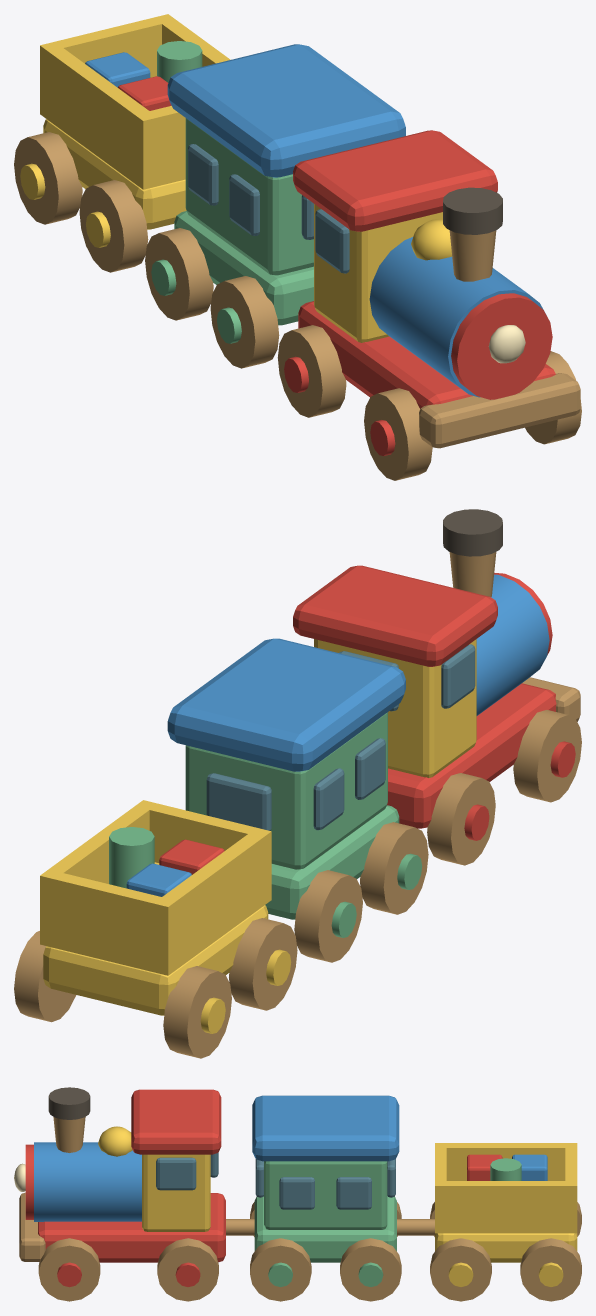
File: toy_train.glb
3 renders of one model, top to bottom at view 1: azimuth 30°, elevation 25°; view 2: azimuth 150°, elevation 25°; view 3: azimuth 270°, elevation 25°, orthographic. The views are drawn at different scales.
Parts seen in each view (by area): view 1: Passenger car blue roof, Locomotive red cab roof, Locomotive blue boiler, Passenger car green body, Open wagon long side, Locomotive red boiler face, Locomotive front buffer, Locomotive cab, Locomotive wooden chassis, Passenger car wooden chassis, Passenger car chunky wooden wheel, Open wagon chunky wooden wheel (+25 smaller); view 2: Passenger car blue roof, Locomotive red cab roof, Passenger car green body, Open wagon end wall.001, Locomotive cab, Locomotive wooden chassis, Open wagon long side, Open wagon wooden chassis, Locomotive blue boiler, Open wagon chunky wooden wheel.002, Passenger car chunky wooden wheel.002, Locomotive chunky wooden wheel.002 (+23 smaller); view 3: Passenger car blue roof, Locomotive blue boiler, Open wagon long side.001, Passenger car green body, Locomotive red cab roof, Locomotive wooden chassis, Locomotive cab, Passenger car wooden chassis, Open wagon chunky wooden wheel.001, Passenger car chunky wooden wheel.001, Passenger car chunky wooden wheel.003, Open wagon chunky wooden wheel.003 (+27 smaller).
Part boxes in pixels (bbox=[...]): Passenger car blue roof: bbox=[167, 44, 405, 177]; Locomotive red cab roof: bbox=[293, 130, 497, 231]; Locomotive blue boiler: bbox=[369, 237, 546, 397]; Passenger car green body: bbox=[185, 118, 313, 275]; Open wagon long side: bbox=[48, 48, 148, 182]; Locomotive red boiler face: bbox=[451, 293, 552, 399]; Locomotive front buffer: bbox=[419, 373, 580, 448]; Locomotive cab: bbox=[314, 204, 442, 342]; Locomotive wooden chassis: bbox=[298, 301, 555, 408]; Passenger car wooden chassis: bbox=[174, 211, 313, 325]; Passenger car chunky wooden wheel: bbox=[210, 276, 279, 368]; Open wagon chunky wooden wheel: bbox=[79, 180, 148, 272]; Passenger car blue roof: bbox=[167, 638, 405, 771]; Locomotive red cab roof: bbox=[293, 565, 497, 666]; Passenger car green body: bbox=[185, 712, 387, 869]; Open wagon end wall.001: bbox=[40, 869, 176, 975]; Locomotive cab: bbox=[314, 639, 476, 777]; Locomotive wooden chassis: bbox=[387, 683, 556, 828]; Open wagon long side: bbox=[162, 834, 262, 968]; Open wagon wooden chassis: bbox=[43, 905, 268, 1015]; Locomotive blue boiler: bbox=[476, 574, 549, 715]; Open wagon chunky wooden wheel.002: bbox=[163, 966, 231, 1058]; Passenger car chunky wooden wheel.002: bbox=[294, 870, 362, 962]; Locomotive chunky wooden wheel.002: bbox=[427, 773, 495, 865]; Passenger car blue roof: bbox=[252, 1095, 399, 1161]; Locomotive blue boiler: bbox=[34, 1142, 141, 1221]; Open wagon long side.001: bbox=[446, 1181, 565, 1233]; Passenger car green body: bbox=[264, 1161, 387, 1229]; Locomotive red cab roof: bbox=[131, 1089, 221, 1154]; Locomotive wooden chassis: bbox=[38, 1193, 225, 1262]; Locomotive cab: bbox=[142, 1154, 210, 1231]; Passenger car wooden chassis: bbox=[254, 1196, 396, 1262]; Open wagon chunky wooden wheel.001: bbox=[430, 1238, 491, 1301]; Passenger car chunky wooden wheel.001: bbox=[250, 1238, 311, 1301]; Passenger car chunky wooden wheel.003: bbox=[340, 1238, 401, 1301]; Open wagon chunky wooden wheel.003: bbox=[520, 1238, 581, 1301].
Size of the model in its own units: 0.314 by 0.41 by 1.2.
